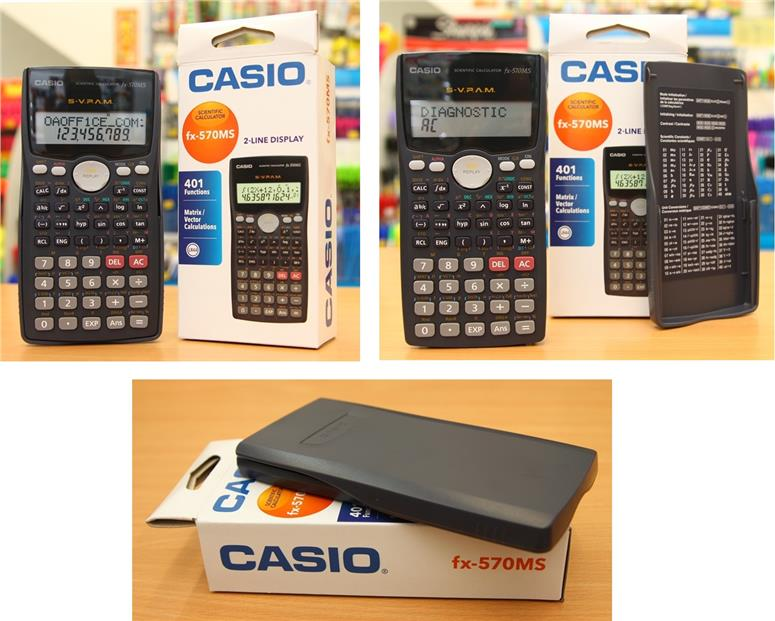Calculator: (393, 49, 552, 353), (16, 63, 167, 350), (229, 152, 309, 324), (602, 142, 647, 298)
